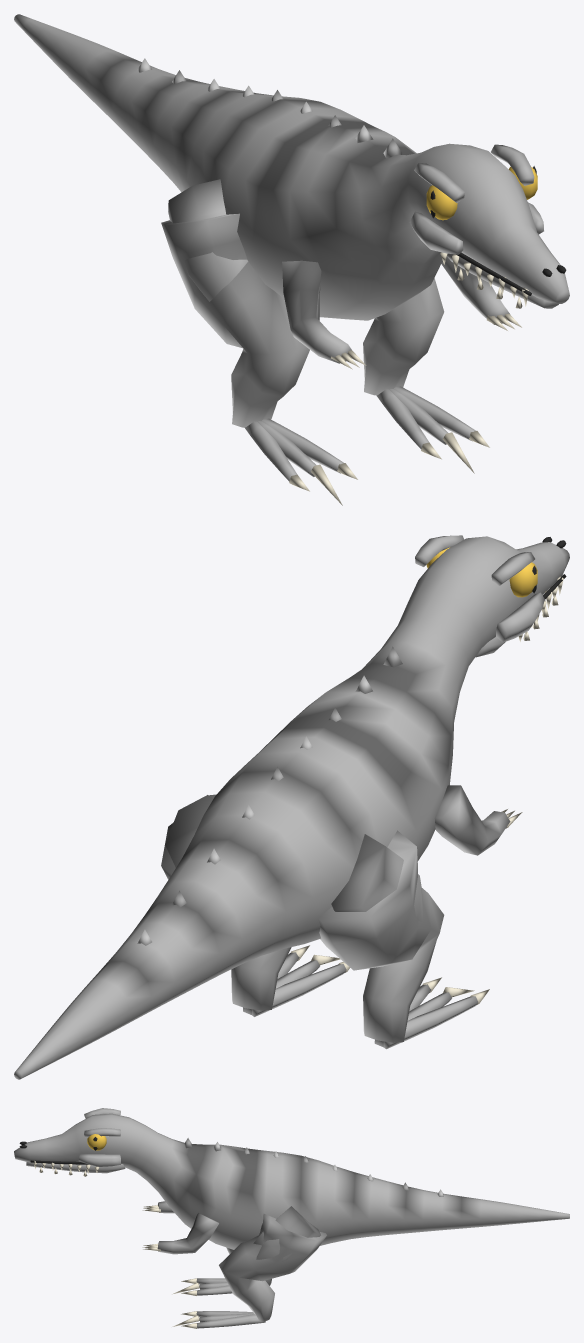
The model's file is runner.fbx.
3 views of the same model, one above another, from view 1: azimuth 30°, elevation 25°; view 2: azimuth 150°, elevation 25°; view 3: azimuth 270°, elevation 25° (orthographic). The views are drawn at different scales.
Visible parts, largest first — view 1: runner_Body, runner_Accent, runner_Eyes, runner_Dark; view 2: runner_Body, runner_Accent, runner_Eyes; view 3: runner_Body, runner_Accent.
Boxes of the visible parts, x1,y1,x2,y2 form: runner_Body: (14,14,569,481); runner_Accent: (289,252,528,505); runner_Eyes: (426,166,537,220); runner_Dark: (430,166,566,295); runner_Body: (14,535,569,1079); runner_Accent: (290,576,563,1005); runner_Eyes: (426,547,537,597); runner_Body: (14,1108,569,1328); runner_Accent: (33,1160,199,1328).
Bounding box in the file's own units: 2.42 × 3.67 × 9.47.
